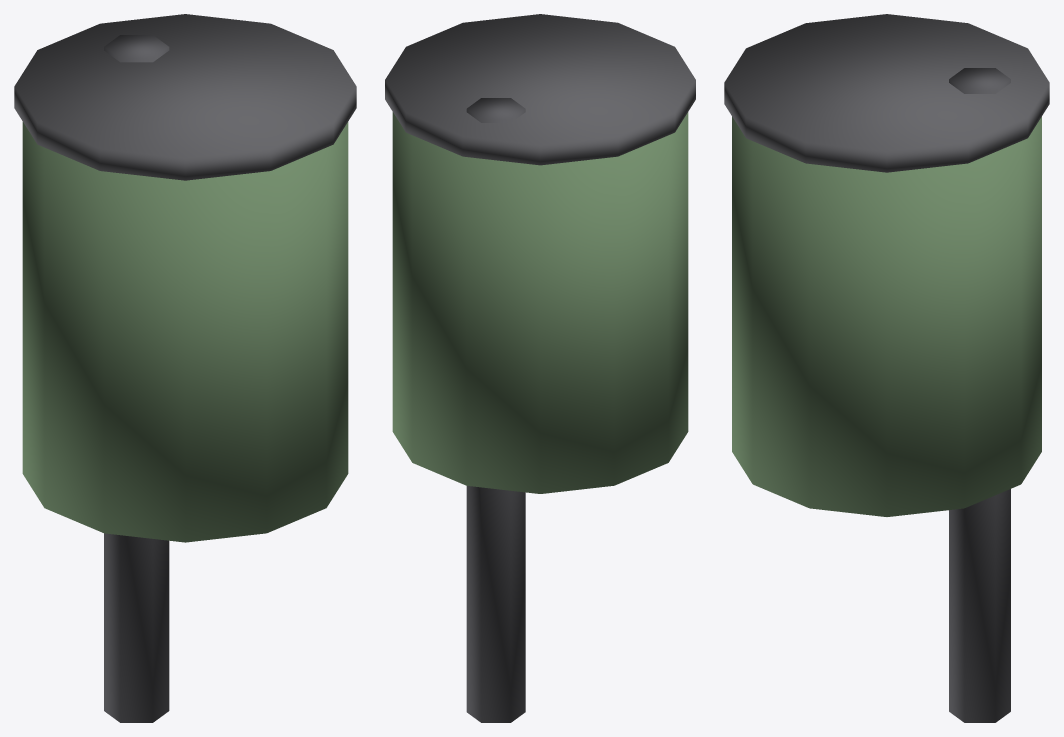
File: v_litter_bin.glb
The picture shows the model from 3 angles, left to right: view 1: azimuth 30°, elevation 25°; view 2: azimuth 150°, elevation 25°; view 3: azimuth 270°, elevation 25°; orthographic projection. The views are drawn at different scales.
Parts seen in each view (by area): view 1: LitterBin; view 2: LitterBin; view 3: LitterBin.
Part boxes in pixels (left/top/right/bottom): LitterBin: left=14, top=14, right=356, bottom=722; LitterBin: left=385, top=14, right=695, bottom=722; LitterBin: left=724, top=14, right=1049, bottom=722.
Size of the model in its own units: 0.42 by 0.9 by 0.42.
